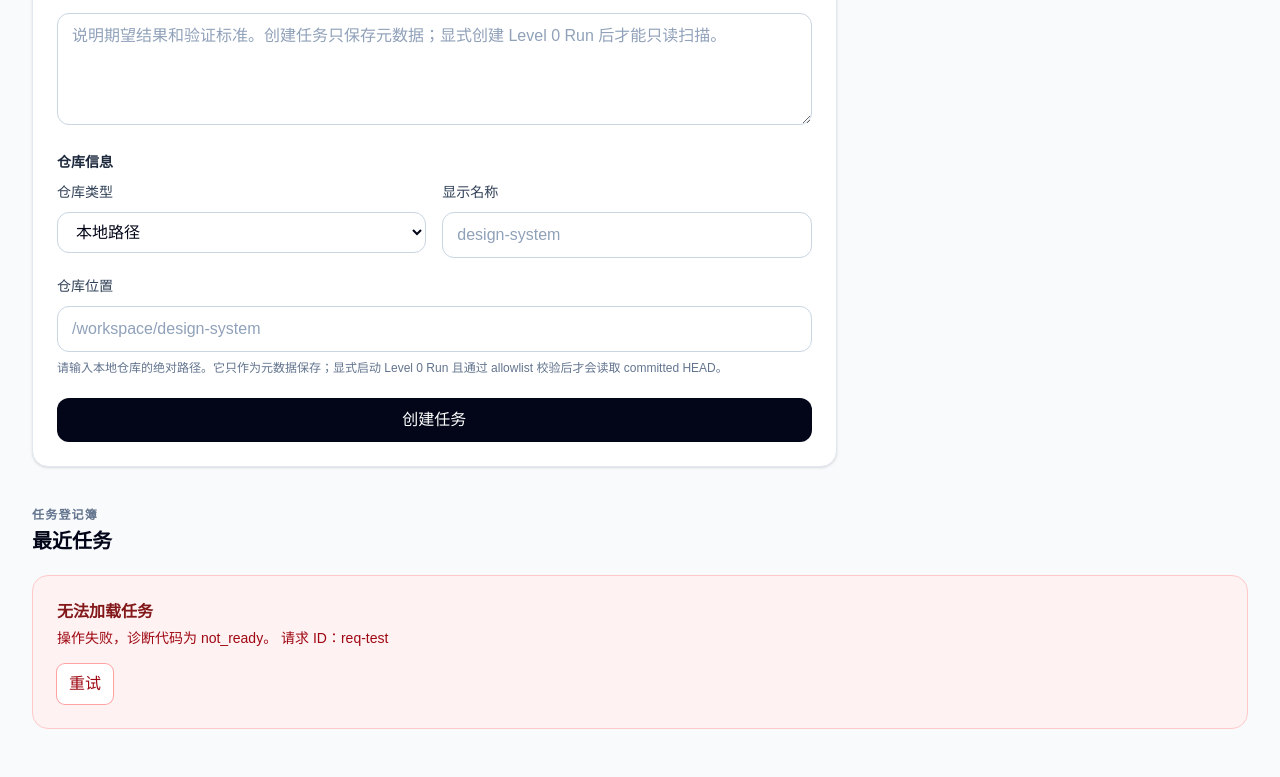
it: Dashboard › shows an API error and retries the task list
The width and height of the screenshot is (1280, 777).
(page scrolled)
Expected: the message shows "not_ready", top-left (57, 630), bottom-right (388, 646)
Expected: the message does not show "Database unavailable", top-left (32, 575), bottom-right (1248, 729)
Click the button "重试" at (85, 684), box top-left (57, 664), bottom-right (113, 704)
(page scrolled)
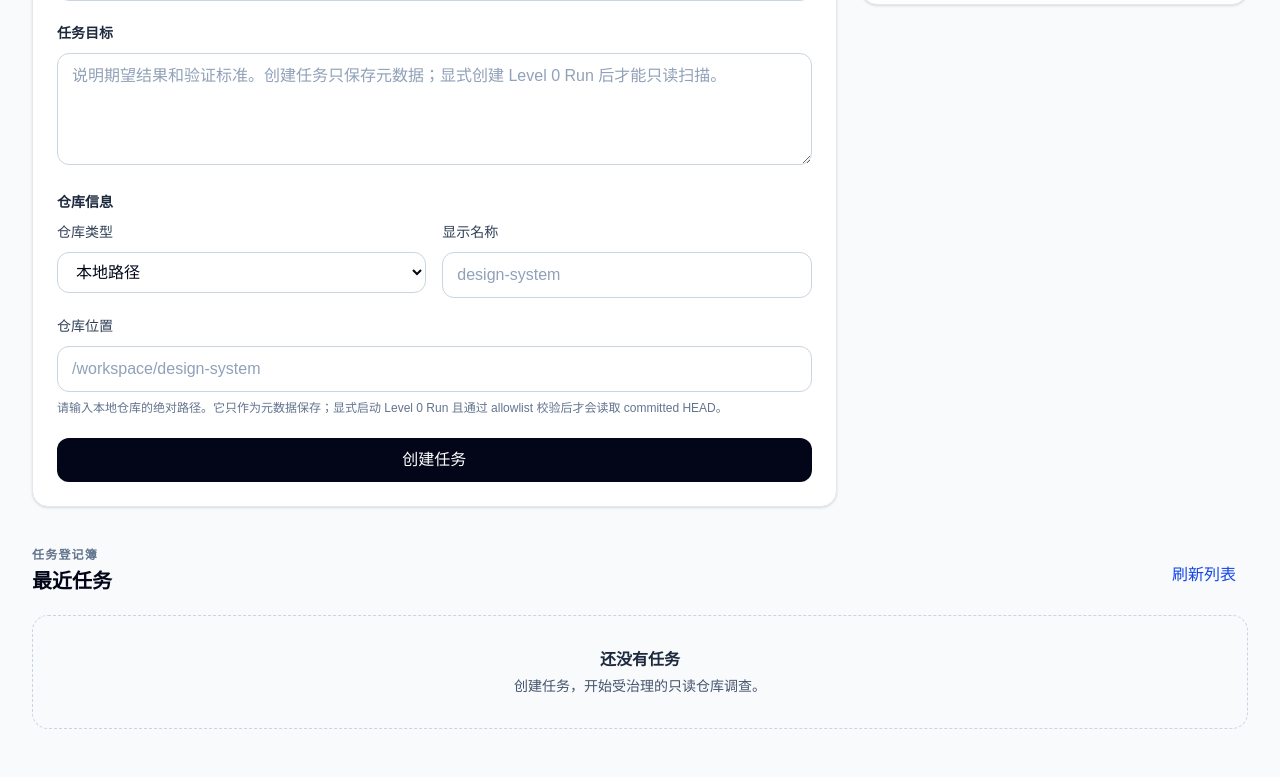
Result: the text "还没有任务" is shown at top-left (600, 651), bottom-right (680, 668)
